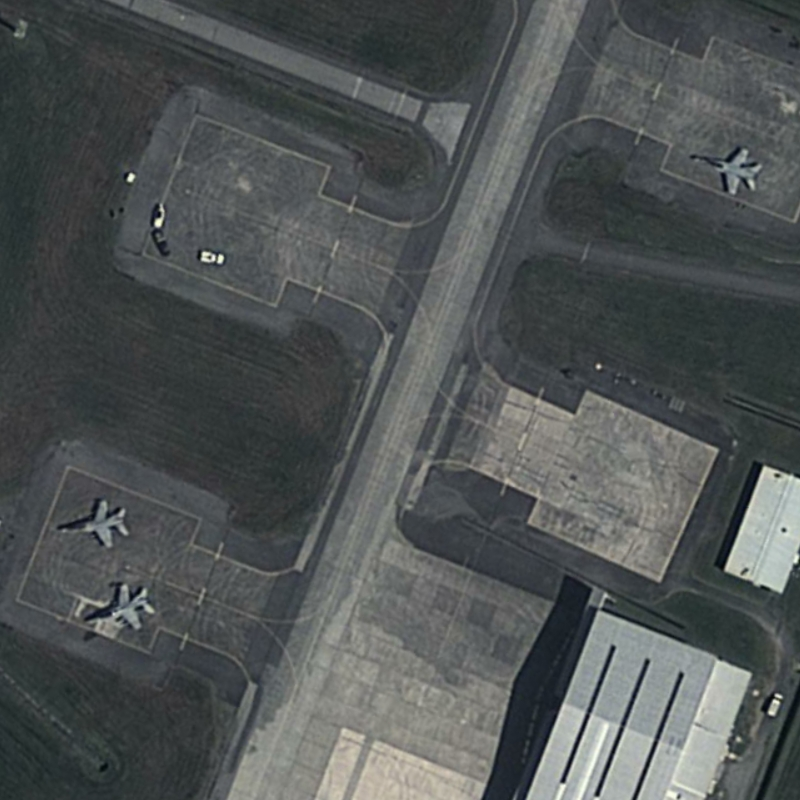A16: (683, 144, 768, 200), (53, 495, 133, 551), (78, 578, 158, 631)
